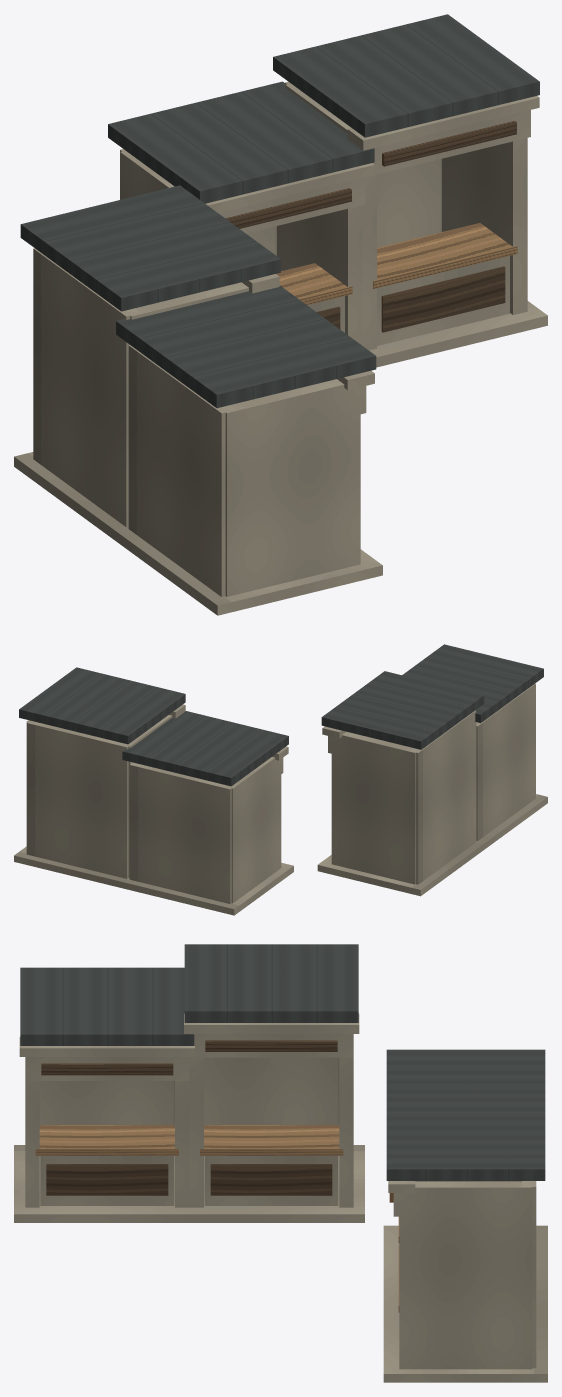
File: thimphu.glb
3 renders of one model, top to bottom at view 1: azimuth 30°, elevation 25°; view 2: azimuth 150°, elevation 25°; view 3: azimuth 270°, elevation 25°, orthographic. The views are drawn at different scales.
Parts seen in each view (by area): view 1: thimphu; view 2: thimphu; view 3: thimphu.
Part boxes in pixels (x1=…): thimphu: x1=14, y1=14, x2=547, y2=615; thimphu: x1=14, y1=644, x2=547, y2=915; thimphu: x1=14, y1=944, x2=547, y2=1382.
Bounding box in the file's own units: 5.83 × 2.5 × 5.75.
Materials: 1 (1 with a texture image).
